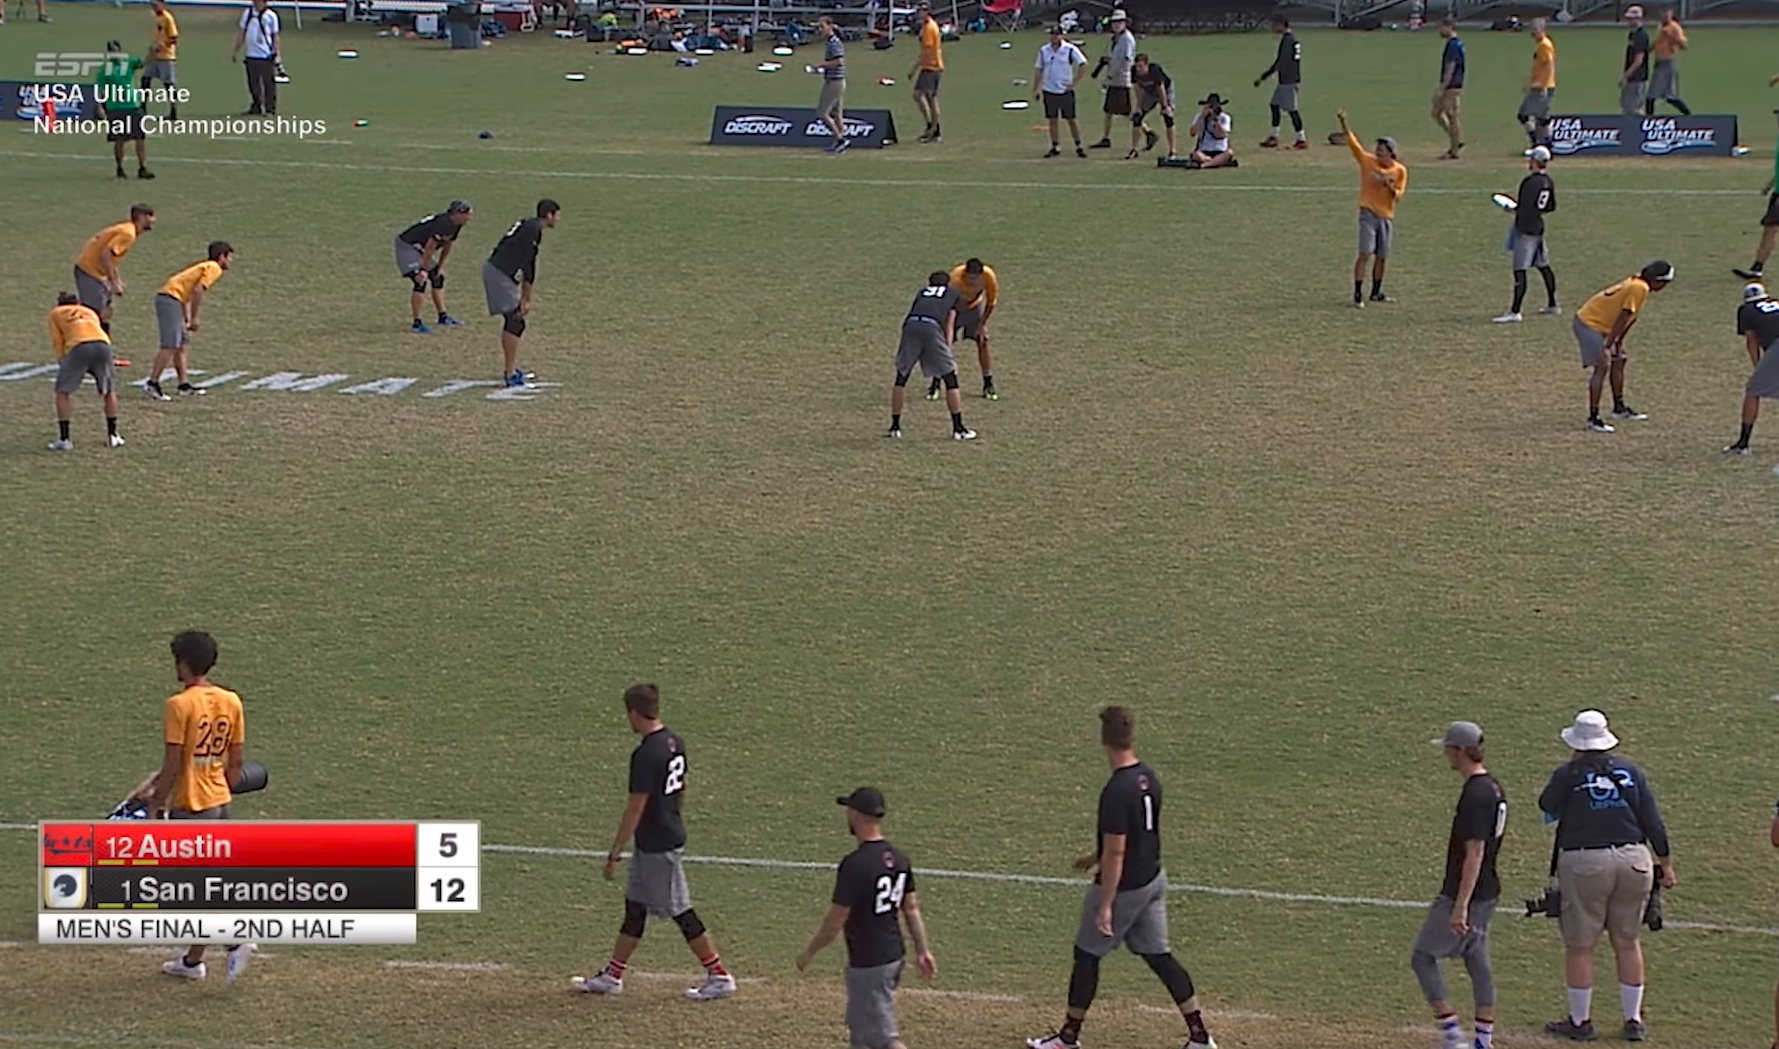frisbee: (1493, 194, 1518, 209), (1001, 100, 1027, 110), (337, 49, 358, 57), (566, 72, 586, 80), (763, 60, 782, 67), (758, 66, 777, 71)
